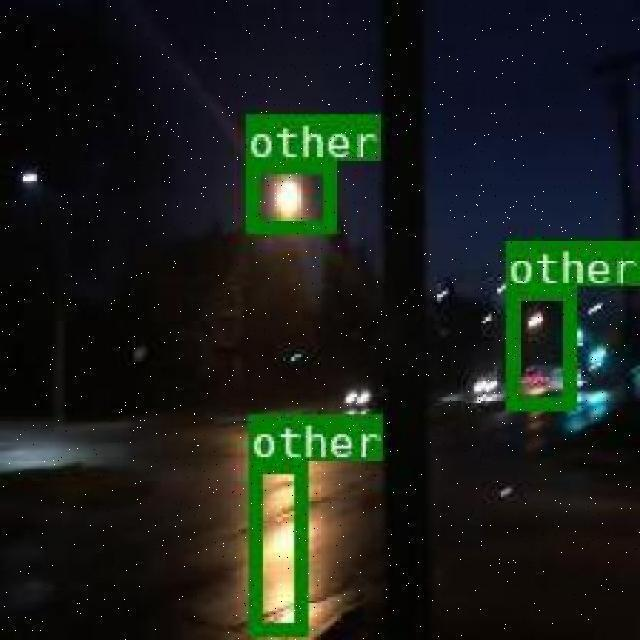Smoke: (246, 459, 303, 633), (504, 284, 572, 408), (242, 158, 333, 231)
